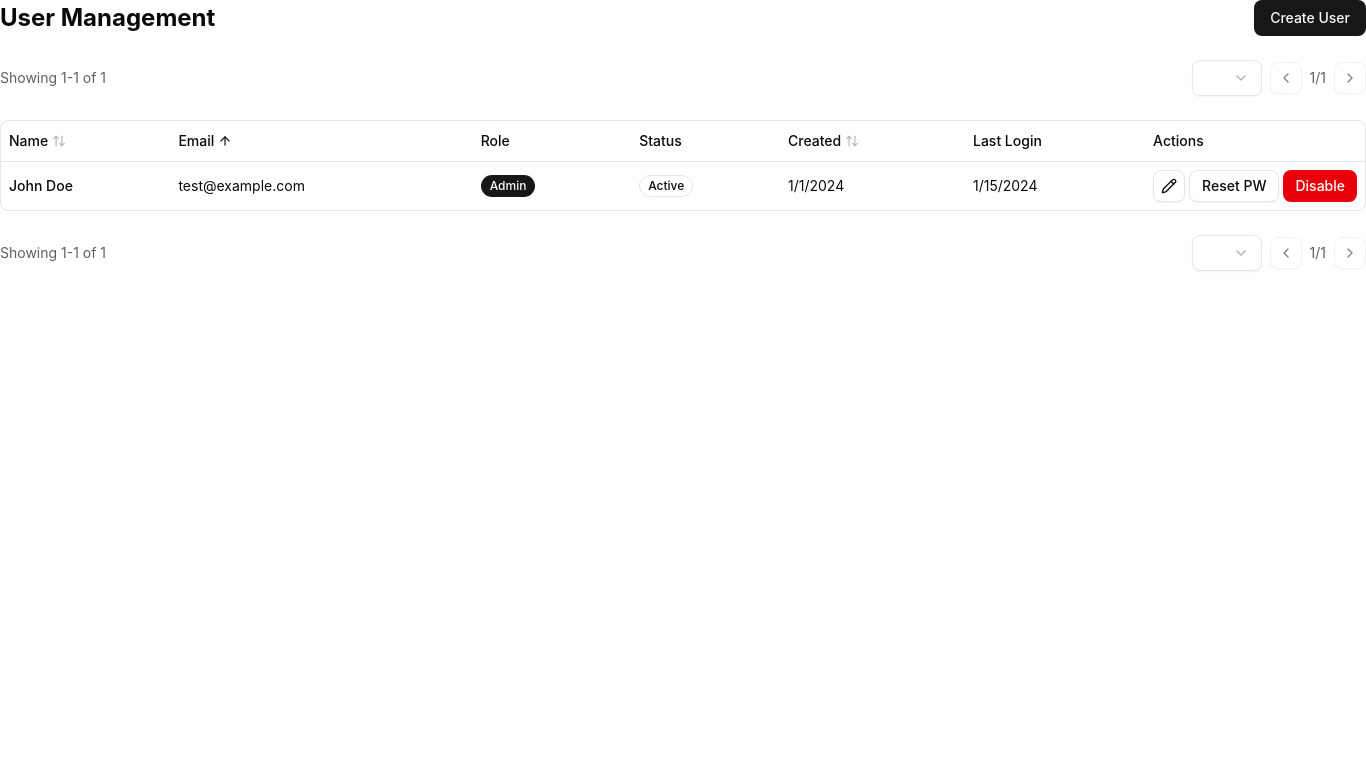
AdminUsers › opens reset password dialog when Reset PW button is clicked
The image size is (1366, 768).
Click the button "Reset PW": click(1234, 186) [1189, 170, 1280, 202]
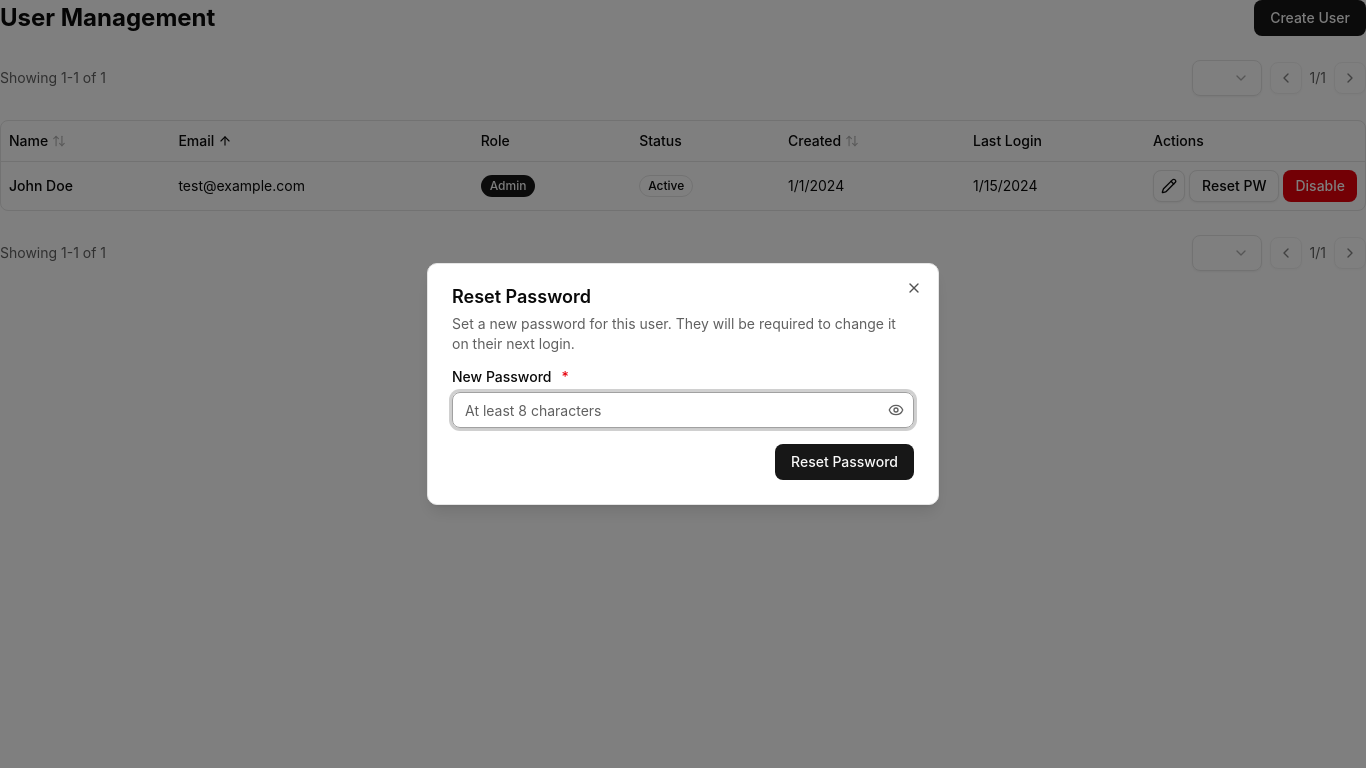
Check: the heading "Reset Password" is shown, box [452, 286, 591, 307]
Check: the text "Set a new password" is shown, box [452, 315, 896, 352]
